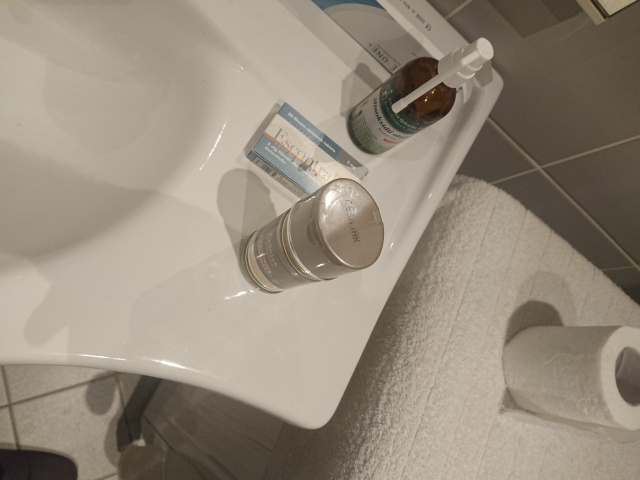Kotanyi Garlic Granules 70g: (241, 175, 388, 296)
